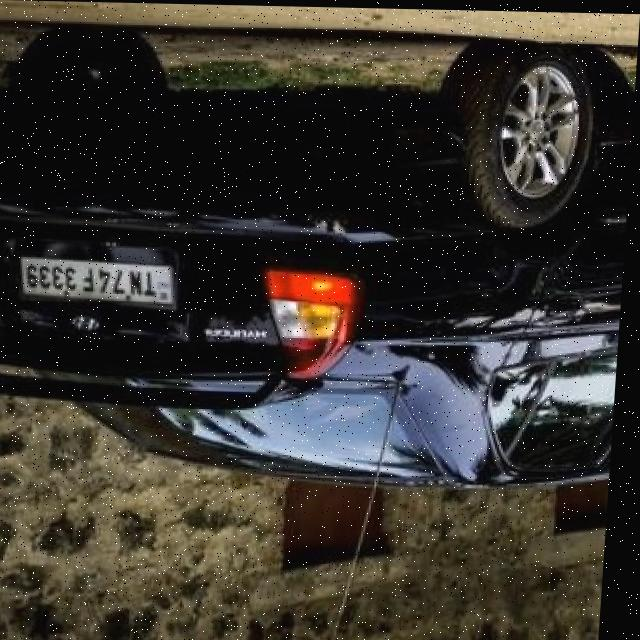plate: (21, 251, 186, 311)
